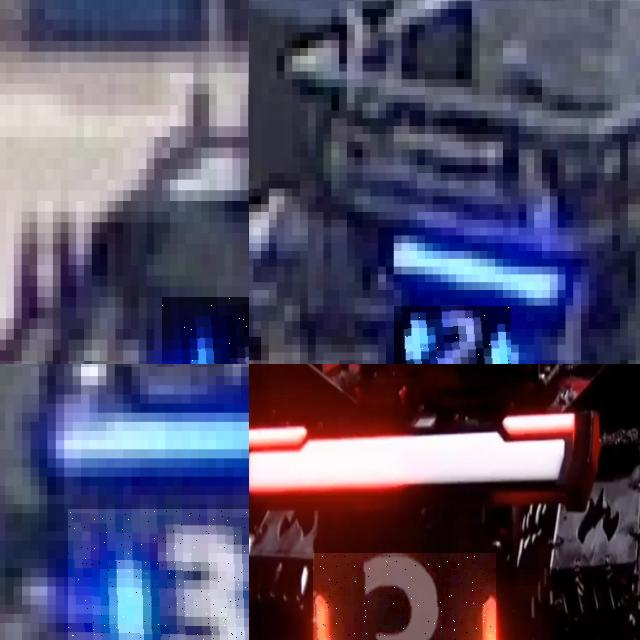B2: (394, 305, 511, 364)
B3: (68, 508, 249, 640)
B4: (162, 297, 249, 364)
R3: (313, 553, 496, 640)
